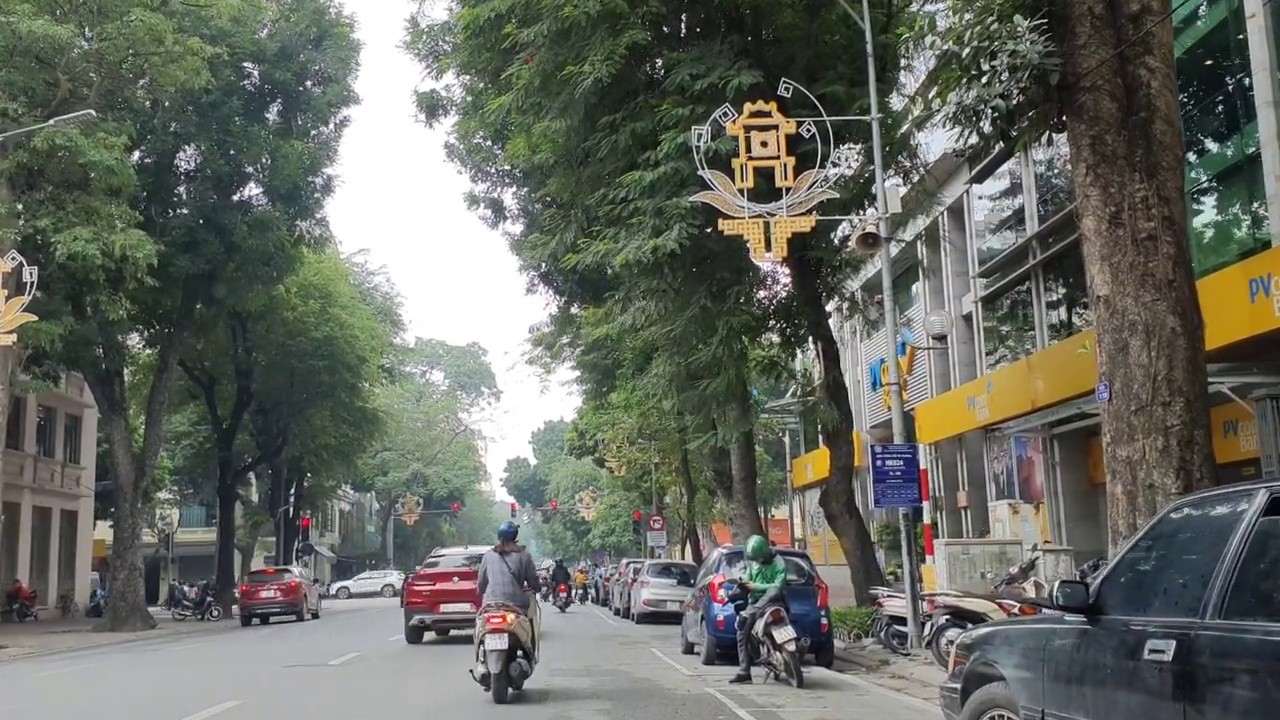person: (483, 630, 512, 649), (666, 599, 682, 610)
